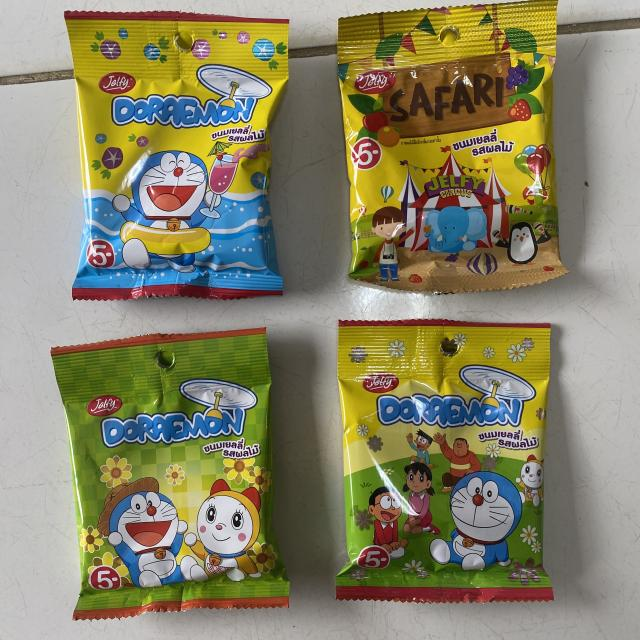plastik: (51, 329, 289, 620), (338, 0, 566, 292), (65, 11, 289, 300), (336, 320, 554, 602)
